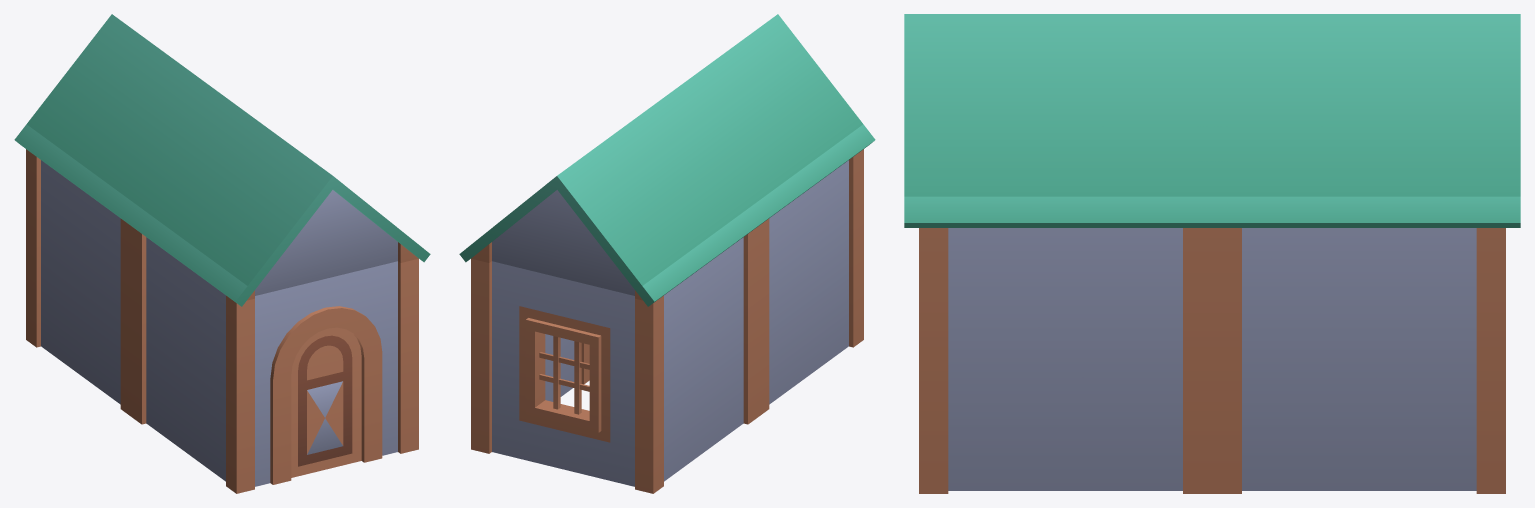
File: house-stone.glb
3 views of the same model, side by side, from view 1: azimuth 30°, elevation 25°; view 2: azimuth 150°, elevation 25°; view 3: azimuth 270°, elevation 25° (orthographic). The views are drawn at different scales.
Parts seen in each view (by area): view 1: roof-gable, wall-door, roof-gable.001, wall.001, wall.003, door, wall; view 2: wall-window-shutters, roof-gable.001, roof-gable, wall.003, wall.001, wall-door, wall.002; view 3: wall, wall.002, roof-gable, roof-gable.001, wall-window-shutters, wall-door.
Part boxes in pixels (x1=…): roof-gable: x1=120, y1=92, x2=430, y2=306; wall-door: x1=226, y1=259, x2=418, y2=493; roof-gable.001: x1=14, y1=14, x2=227, y2=226; wall.001: x1=131, y1=226, x2=254, y2=493; wall.003: x1=26, y1=149, x2=131, y2=416; door: x1=291, y1=327, x2=361, y2=477; wall: x1=398, y1=259, x2=418, y2=453; wall-window-shutters: x1=471, y1=259, x2=663, y2=493; roof-gable.001: x1=459, y1=99, x2=765, y2=306; roof-gable: x1=662, y1=14, x2=875, y2=227; wall.003: x1=637, y1=226, x2=758, y2=493; wall.001: x1=758, y1=157, x2=863, y2=416; wall-door: x1=849, y1=149, x2=863, y2=347; wall.002: x1=471, y1=259, x2=589, y2=453; wall: x1=919, y1=228, x2=1212, y2=493; wall.002: x1=1212, y1=228, x2=1505, y2=493; roof-gable: x1=904, y1=14, x2=1227, y2=227; roof-gable.001: x1=1197, y1=14, x2=1520, y2=227; wall-window-shutters: x1=1476, y1=228, x2=1505, y2=493; wall-door: x1=919, y1=228, x2=948, y2=493.
Size of the model in its own units: 1.07 by 1.57 by 2.1.
8 materials, 8 textured.
